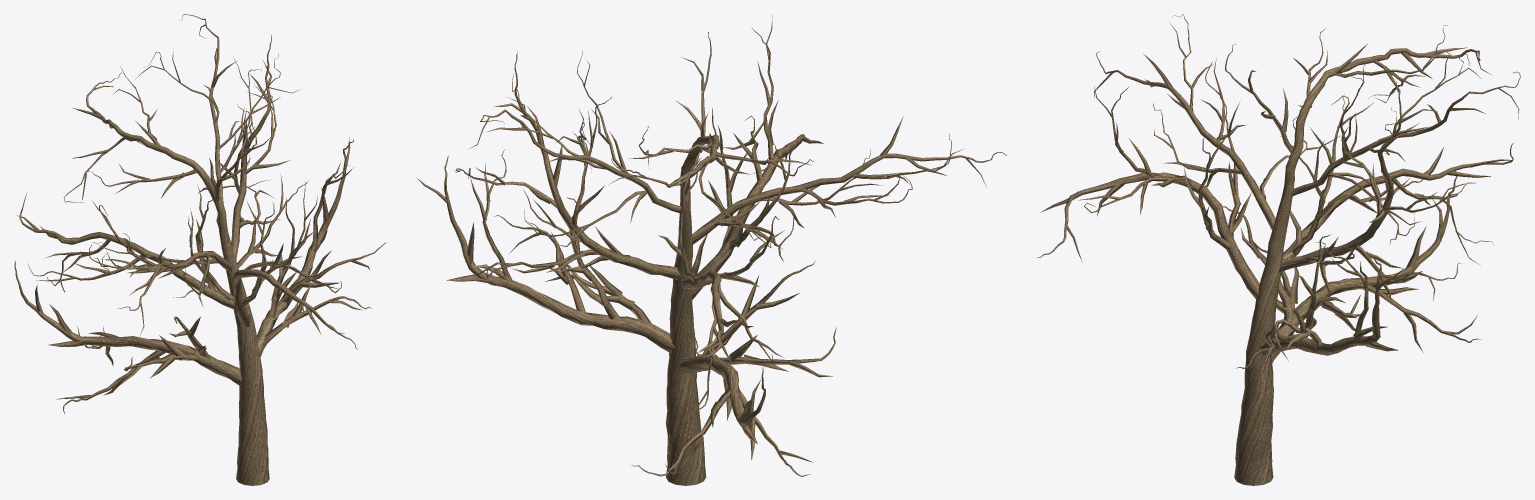
Rendered from deadoak-lod0.glb.
3 renders of one model, left to right at view 1: azimuth 30°, elevation 25°; view 2: azimuth 150°, elevation 25°; view 3: azimuth 270°, elevation 25°, orthographic. The views are drawn at different scales.
Visible parts, largest first — view 1: branches; view 2: branches; view 3: branches.
Boxes of the visible parts, <box> form: branches: <box>14,14,386,485</box>; branches: <box>417,15,1006,485</box>; branches: <box>1037,14,1520,485</box>.
Size of the model in its own units: 74.46 by 74.82 by 74.27.
1 material, 1 textured.
